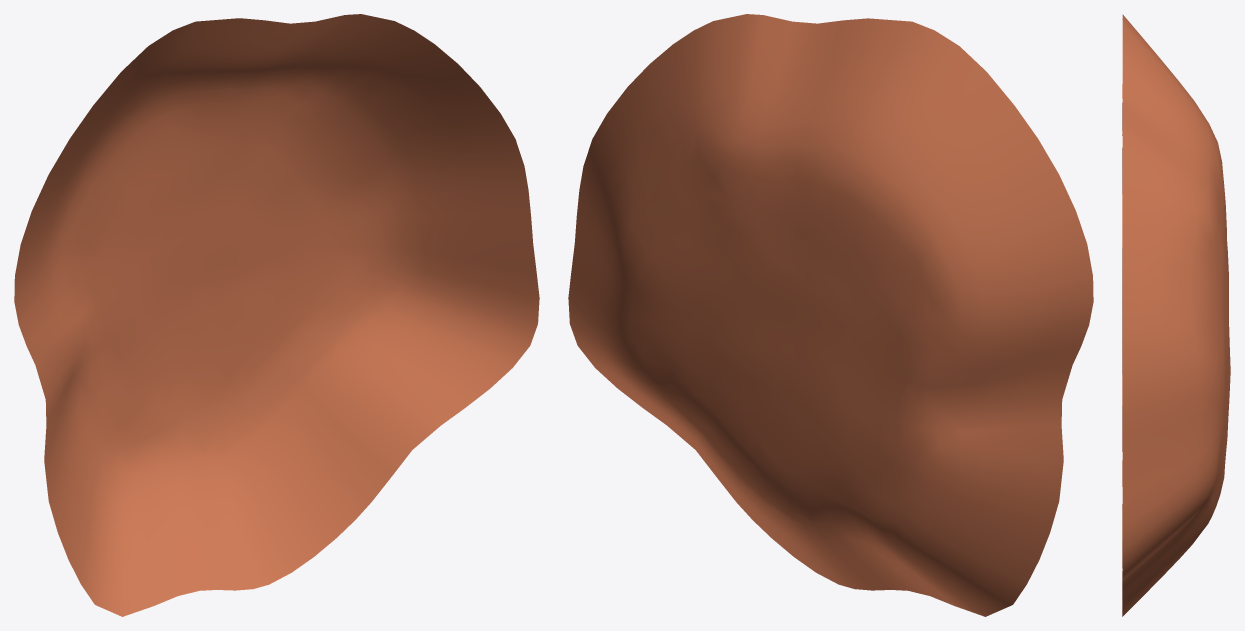
Rendered from Island-Low.fbx.
3 views of the same model, side by side, from view 1: azimuth 30°, elevation 25°; view 2: azimuth 150°, elevation 25°; view 3: azimuth 270°, elevation 25° (orthographic). The views are drawn at different scales.
Parts seen in each view (by area): view 1: Island-Low; view 2: Island-Low; view 3: Island-Low.
Part boxes in pixels (x1,y1,x2,y2): Island-Low: [14, 14, 539, 616]; Island-Low: [568, 14, 1093, 616]; Island-Low: [1122, 14, 1230, 616].
Size of the model in its own units: 3110 by 3291 by 583.
